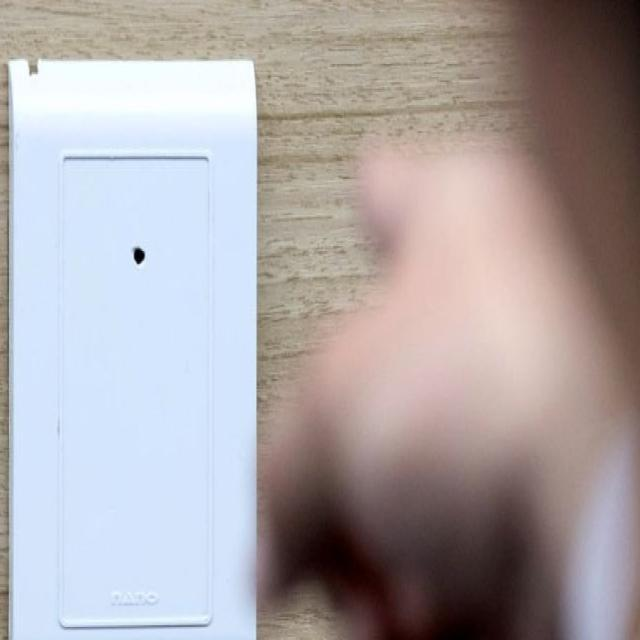hidden camera: (131, 240, 148, 266)
